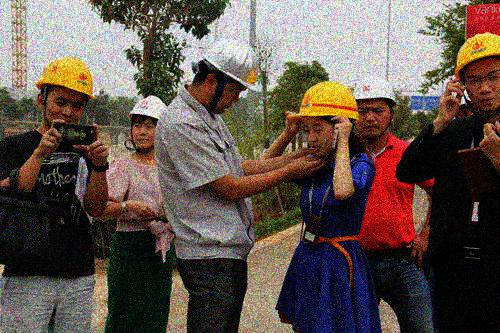helmet: (287, 80, 361, 159), (195, 40, 263, 118), (36, 57, 97, 130), (452, 32, 500, 110), (356, 74, 397, 137), (126, 93, 167, 152), (455, 88, 481, 122)
